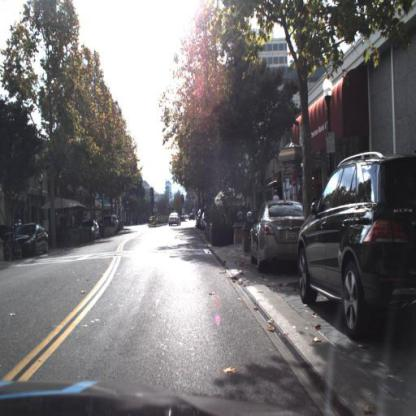car: (299, 152, 416, 335), (250, 200, 307, 273), (9, 217, 51, 261), (79, 215, 103, 243), (168, 210, 182, 228)
trafficLight-Red: (181, 195, 187, 207)
